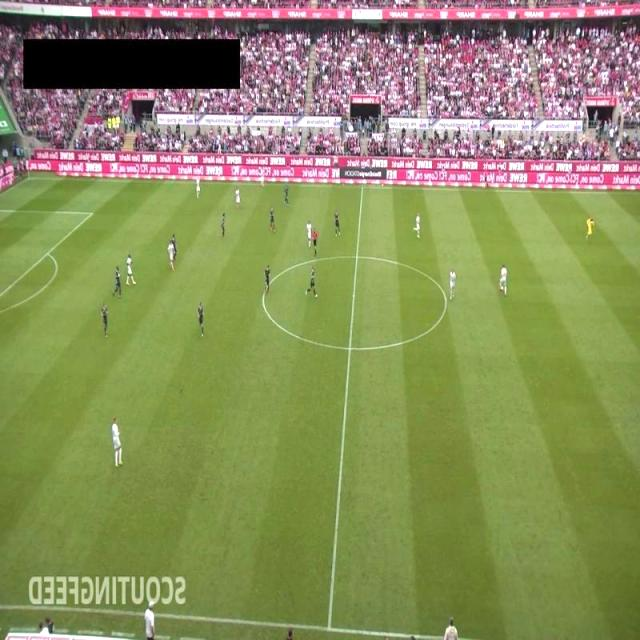bigarea_top_inner: (86, 208, 98, 218)
corner: (23, 172, 34, 184)
halfcircle_bottom: (343, 342, 357, 354)
halfcircle_top: (350, 250, 363, 264)
midline_bottom_intersection: (317, 619, 343, 640)
midline_top_intersection: (358, 181, 368, 192)
top_arc_area_intersection: (40, 246, 54, 263)
